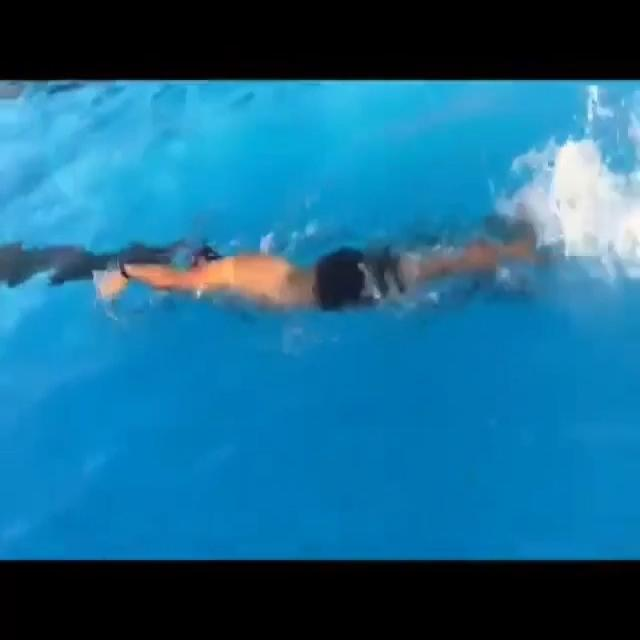Swimming: (74, 176, 584, 378)
